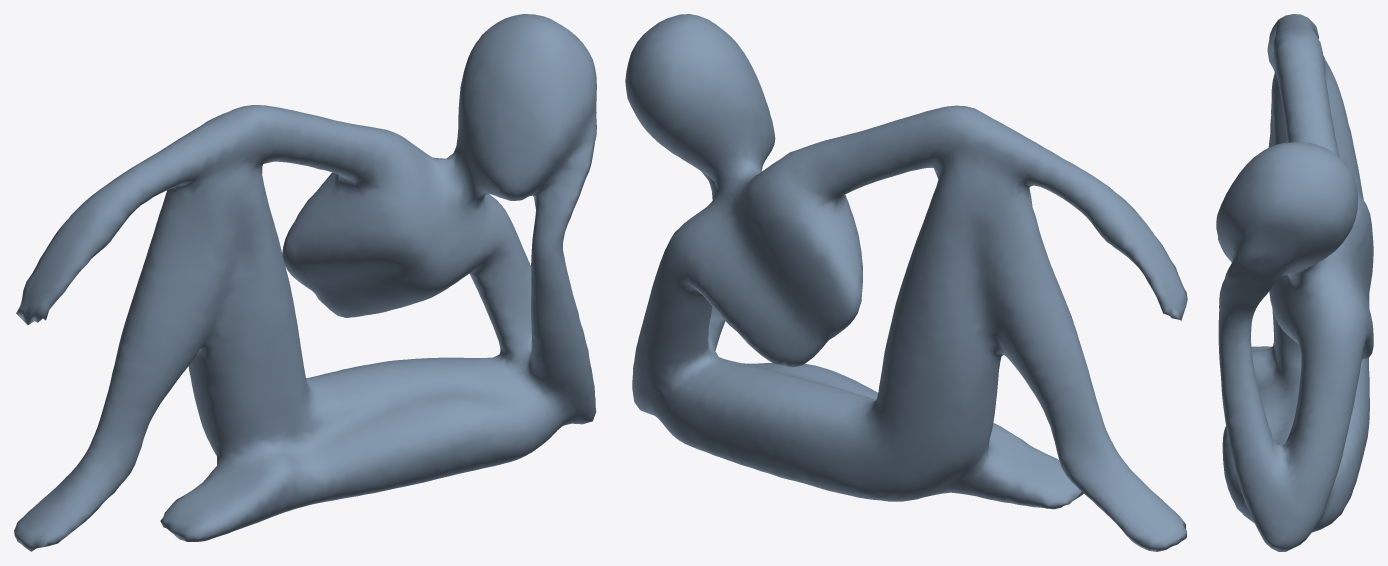
Rendered from indorelax_quads.glb.
3 views of the same model, side by side, from view 1: azimuth 30°, elevation 25°; view 2: azimuth 150°, elevation 25°; view 3: azimuth 270°, elevation 25° (orthographic). The views are drawn at different scales.
Bounding box in the file's own units: 0.9968 × 0.7002 × 0.2566.
